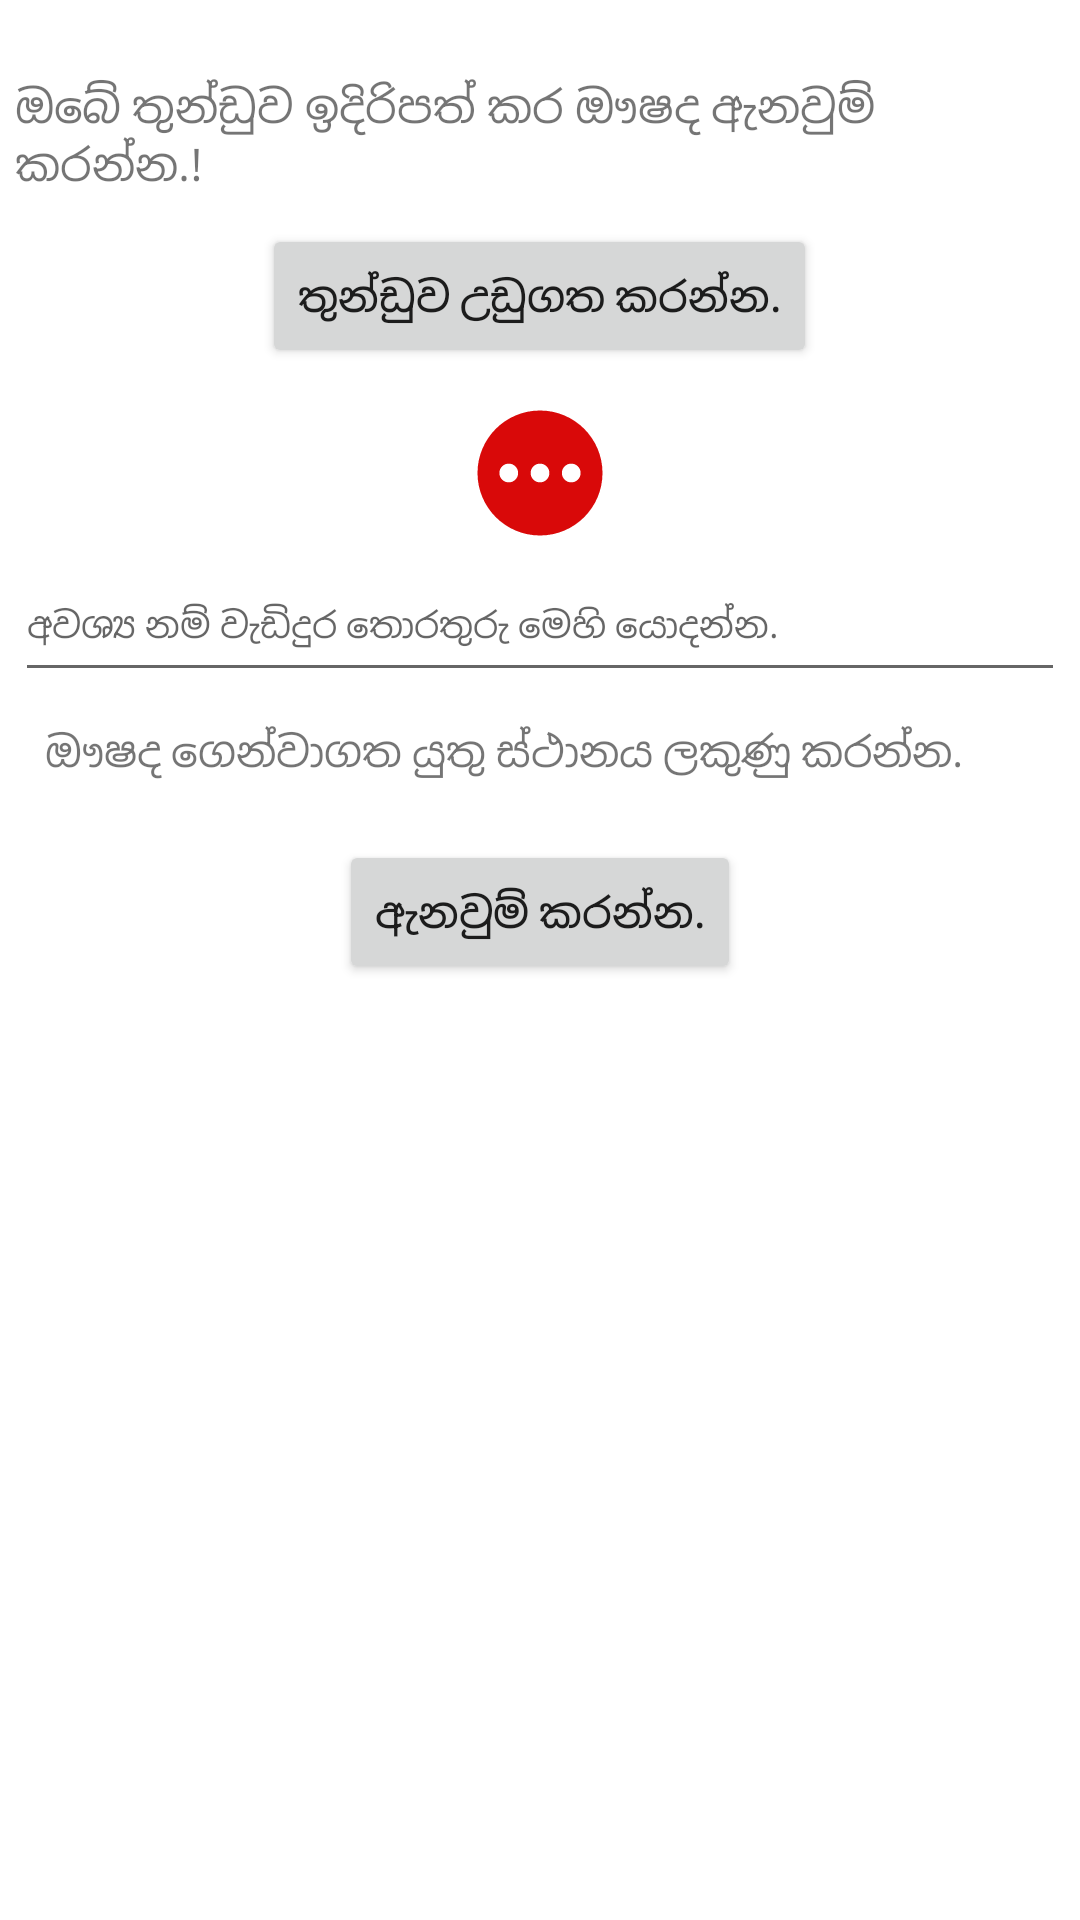

Screen size 1080*1920. Icon name, then its box in pixels as (x1, y1, x2, y2):
pending: (477, 410, 603, 536)
